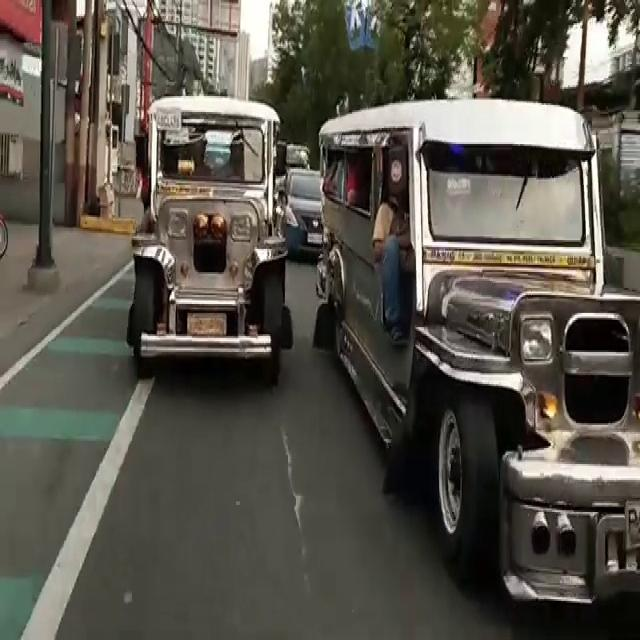jeepney: (328, 122, 632, 640), (127, 93, 299, 380)
